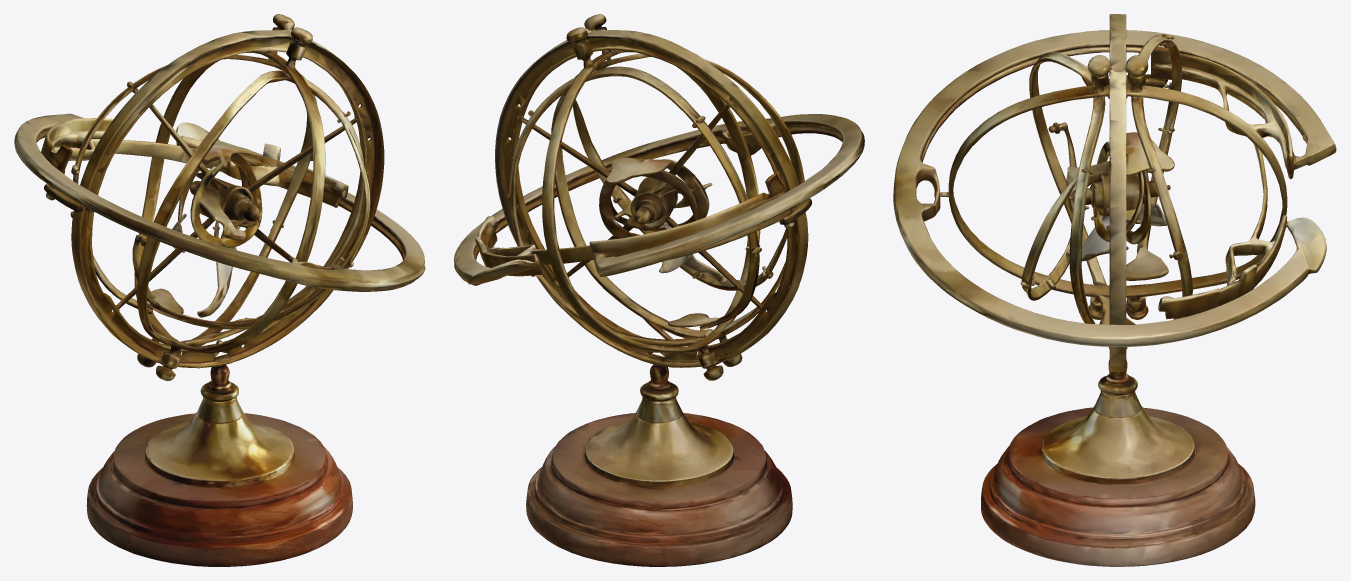
The model's file is armillary-sphere.glb.
The picture shows the model from 3 angles, left to right: view 1: azimuth 30°, elevation 25°; view 2: azimuth 150°, elevation 25°; view 3: azimuth 270°, elevation 25°; orthographic projection. The views are drawn at different scales.
Parts seen in each view (by area): view 1: node_780e62e8-0a35-4f1a-a15a-9c47e1c9ef74; view 2: node_780e62e8-0a35-4f1a-a15a-9c47e1c9ef74; view 3: node_780e62e8-0a35-4f1a-a15a-9c47e1c9ef74.
Boxes of the visible parts, <box> form: node_780e62e8-0a35-4f1a-a15a-9c47e1c9ef74: <box>14,14,425,566</box>; node_780e62e8-0a35-4f1a-a15a-9c47e1c9ef74: <box>454,14,864,566</box>; node_780e62e8-0a35-4f1a-a15a-9c47e1c9ef74: <box>893,14,1336,566</box>.
Size of the model in its own units: 0.7563 by 0.9803 by 0.8049.
1 material, 1 textured.
